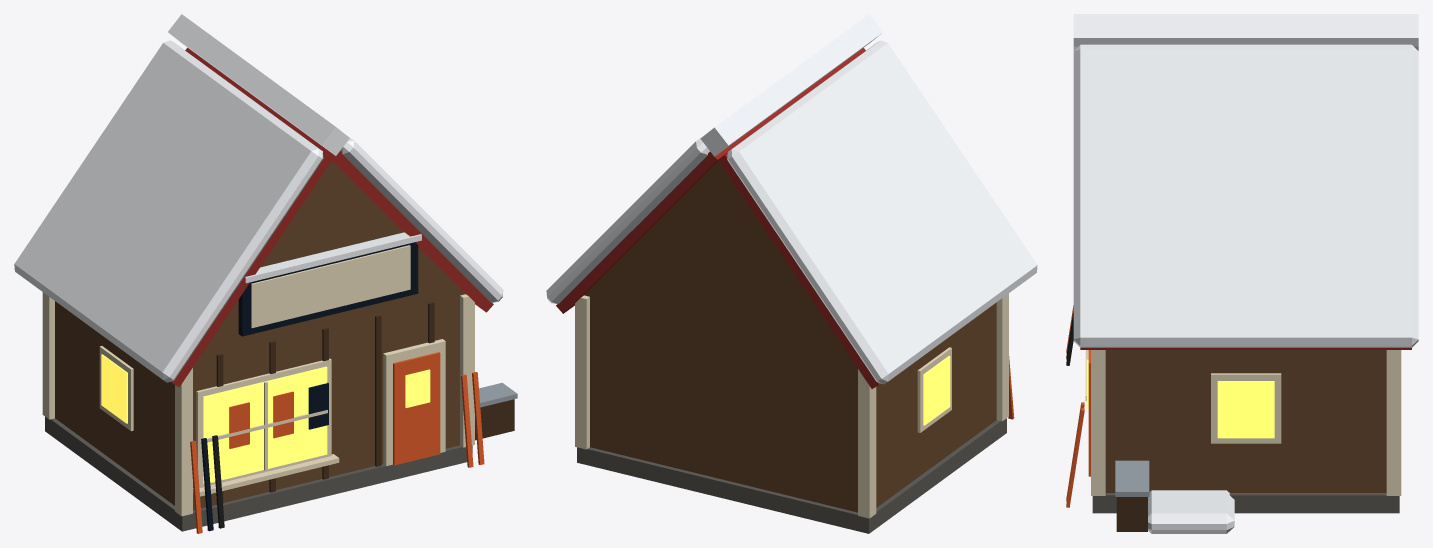
File: ski-shop.glb
3 views of the same model, side by side, from view 1: azimuth 30°, elevation 25°; view 2: azimuth 150°, elevation 25°; view 3: azimuth 270°, elevation 25° (orthographic). The views are drawn at different scales.
Parts seen in each view (by area): view 1: ski-shop; view 2: ski-shop; view 3: ski-shop.
Part boxes in pixels (<box>): ski-shop: <box>14,14,517,533</box>; ski-shop: <box>546,14,1037,533</box>; ski-shop: <box>1066,14,1418,533</box>.
Size of the model in its own units: 8.42 by 8.15 by 6.2.
